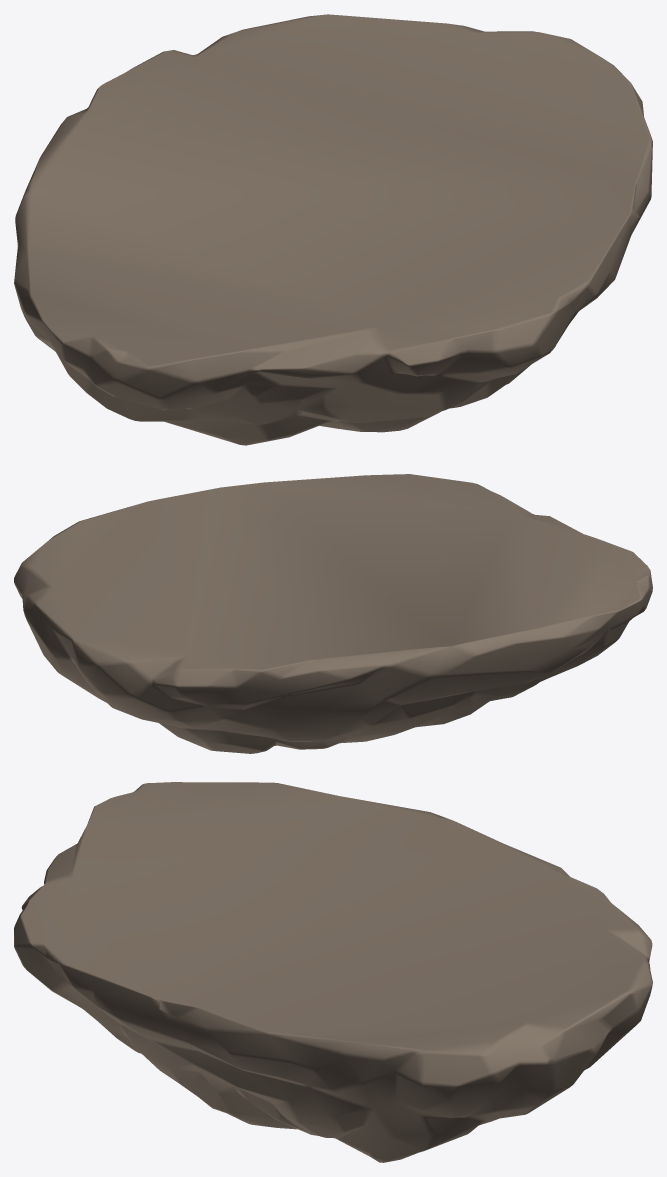
Rendered from IlhaM5.fbx.
3 views of the same model, one above another, from view 1: azimuth 30°, elevation 25°; view 2: azimuth 150°, elevation 25°; view 3: azimuth 270°, elevation 25° (orthographic). The views are drawn at different scales.
Visible parts, largest first — view 1: IlhaM5; view 2: IlhaM5; view 3: IlhaM5.
Boxes of the visible parts, x1=… form: IlhaM5: x1=14, y1=14, x2=652, y2=445; IlhaM5: x1=14, y1=474, x2=652, y2=753; IlhaM5: x1=14, y1=782, x2=652, y2=1162.
Bounding box in the file's own units: 3066 × 961 × 2902.
